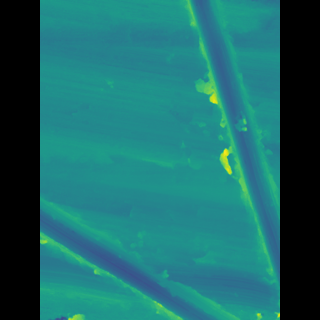Loch: (179, 0, 253, 296), (67, 190, 220, 320)
